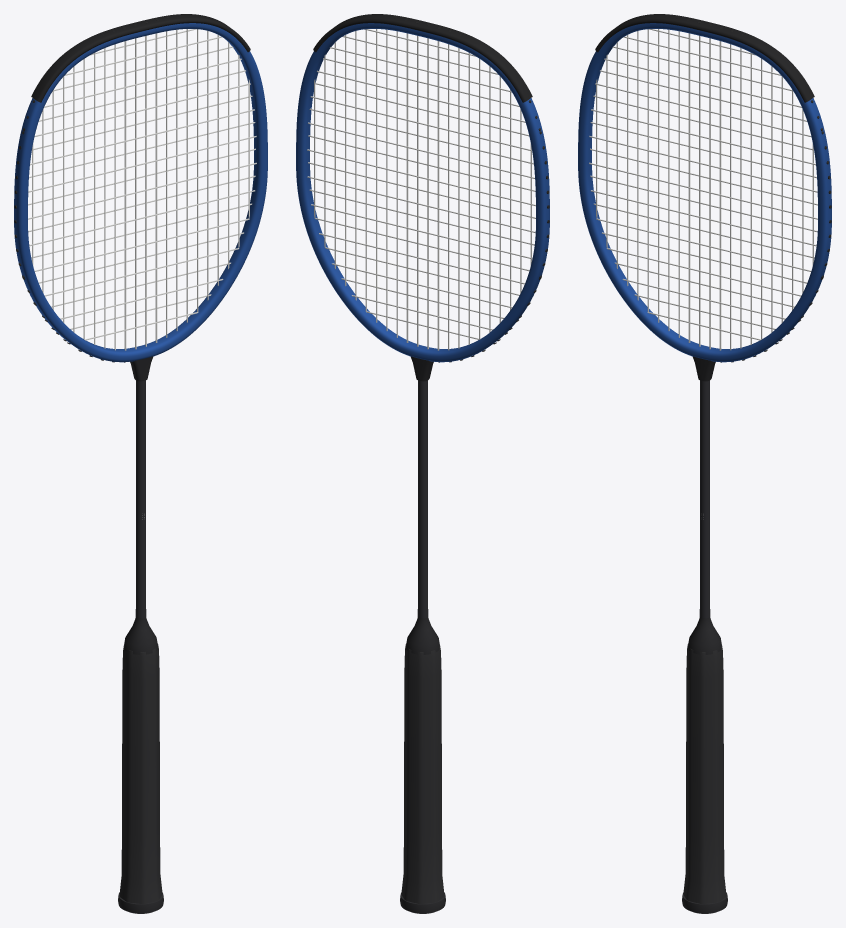
The model's file is racket.glb.
3 renders of one model, left to right at view 1: azimuth 30°, elevation 25°; view 2: azimuth 150°, elevation 25°; view 3: azimuth 330°, elevation 25°, orthographic.
Parts seen in each view (by area): view 1: racket_strings_geo, racket_body_geo, racket_head_geo, racket_shaft_geo; view 2: racket_strings_geo, racket_body_geo, racket_head_geo, racket_shaft_geo; view 3: racket_strings_geo, racket_body_geo, racket_head_geo, racket_shaft_geo.
Part boxes in pixels (bbox=[...]): racket_strings_geo: bbox=[28, 29, 256, 350]; racket_body_geo: bbox=[14, 14, 250, 913]; racket_head_geo: bbox=[14, 23, 267, 362]; racket_shaft_geo: bbox=[135, 380, 146, 618]; racket_strings_geo: bbox=[307, 29, 535, 350]; racket_body_geo: bbox=[313, 14, 549, 913]; racket_head_geo: bbox=[296, 23, 549, 362]; racket_shaft_geo: bbox=[417, 380, 428, 618]; racket_strings_geo: bbox=[589, 29, 817, 350]; racket_body_geo: bbox=[595, 14, 831, 913]; racket_head_geo: bbox=[578, 23, 831, 362]; racket_shaft_geo: bbox=[699, 380, 710, 618].
Size of the model in its own units: 0.2021 by 0.676 by 0.032.
